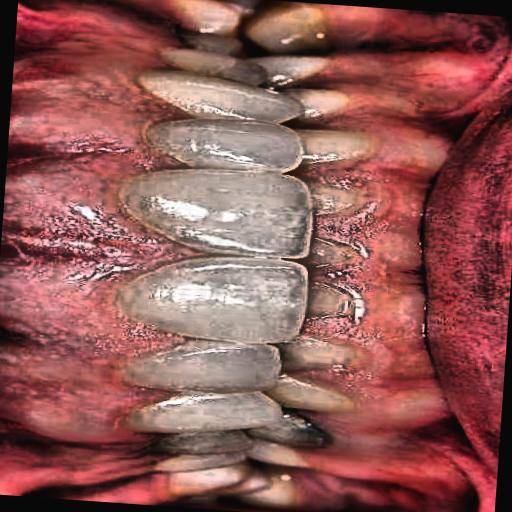Gingivitis: (0, 28, 185, 459), (308, 66, 484, 448)
